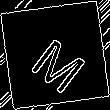M_NE: (21, 21, 89, 89)
